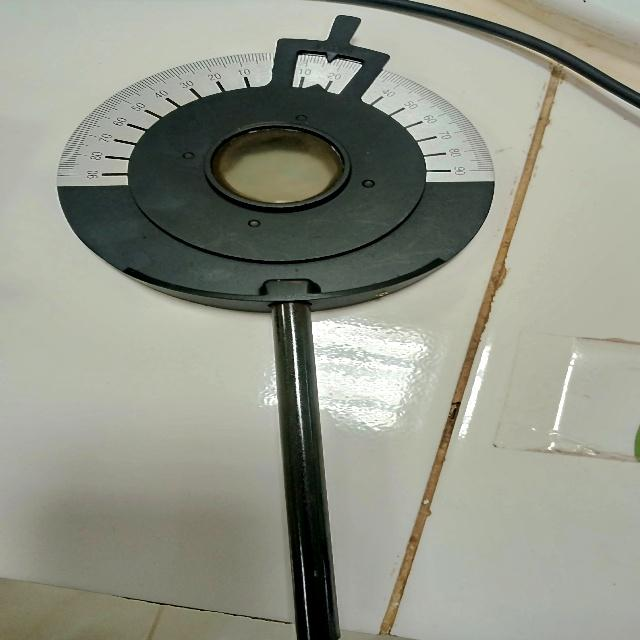Optical Polarizer: (36, 17, 522, 640)
